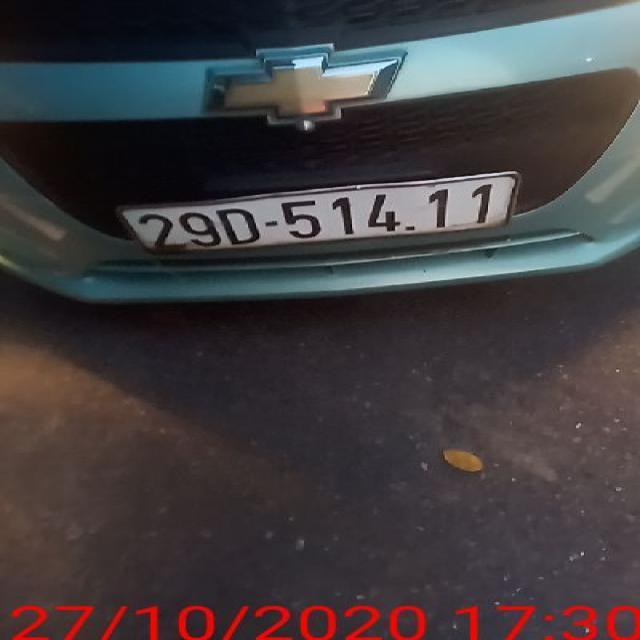bien_so_oto: (117, 168, 522, 262)
